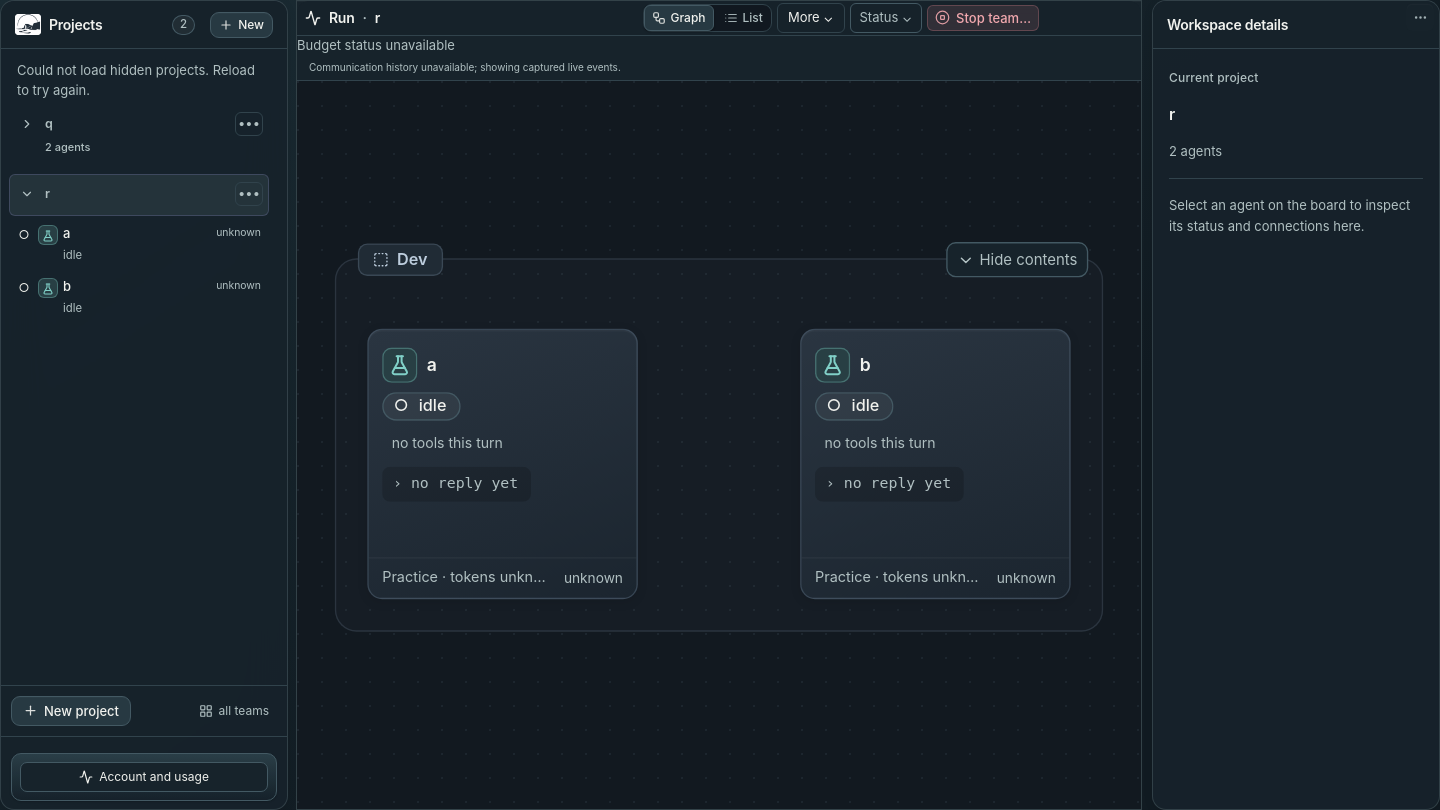
Test case: views and keys › ? opens the full keymap with a filter
The width and height of the screenshot is (1440, 810).
Type keys "?"
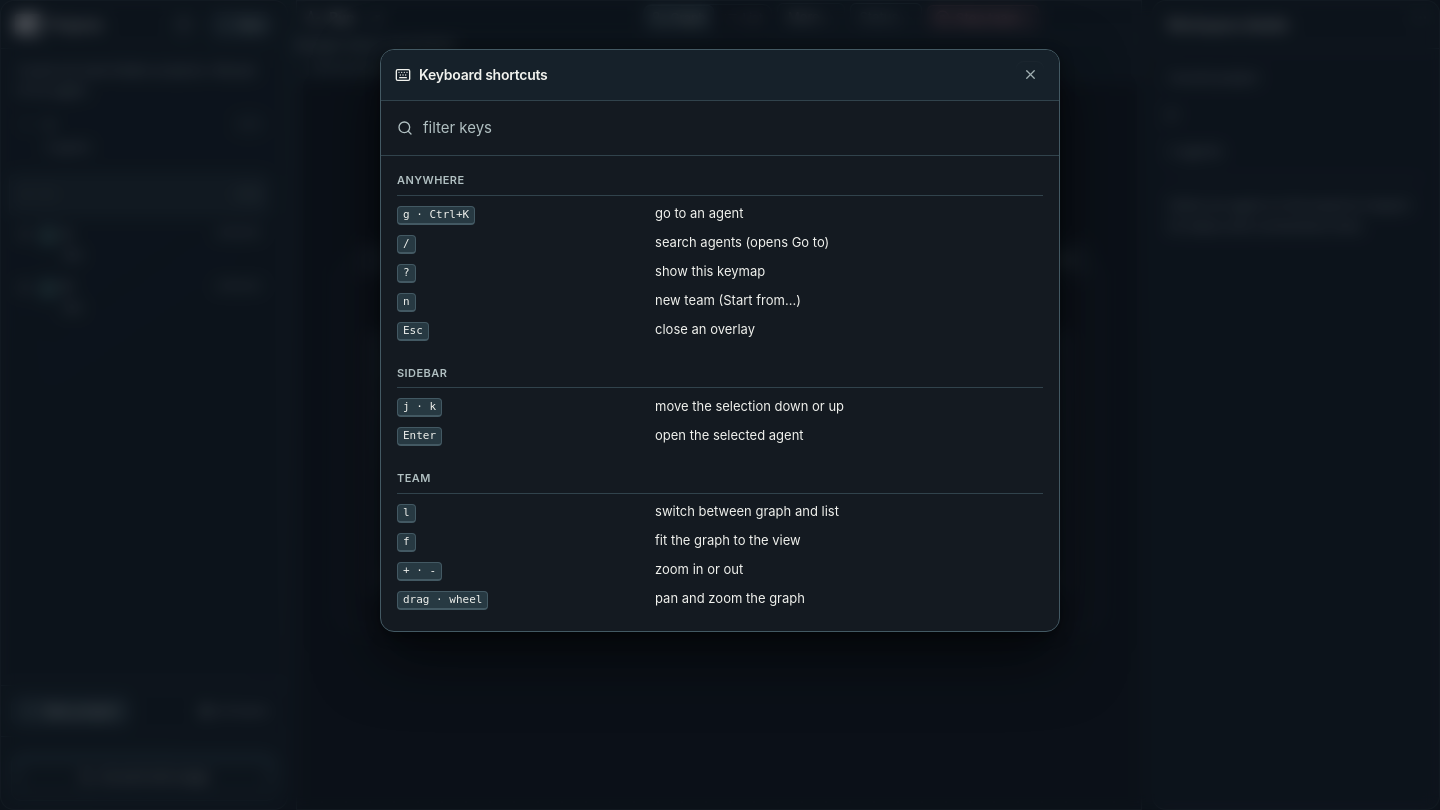
Expected: the dialog named "Keys" does not show "idle · done", [380, 49, 1060, 632]
Type "zoom" into the field labelled "filter keys". click: (733, 128)
box: [423, 113, 1043, 143]
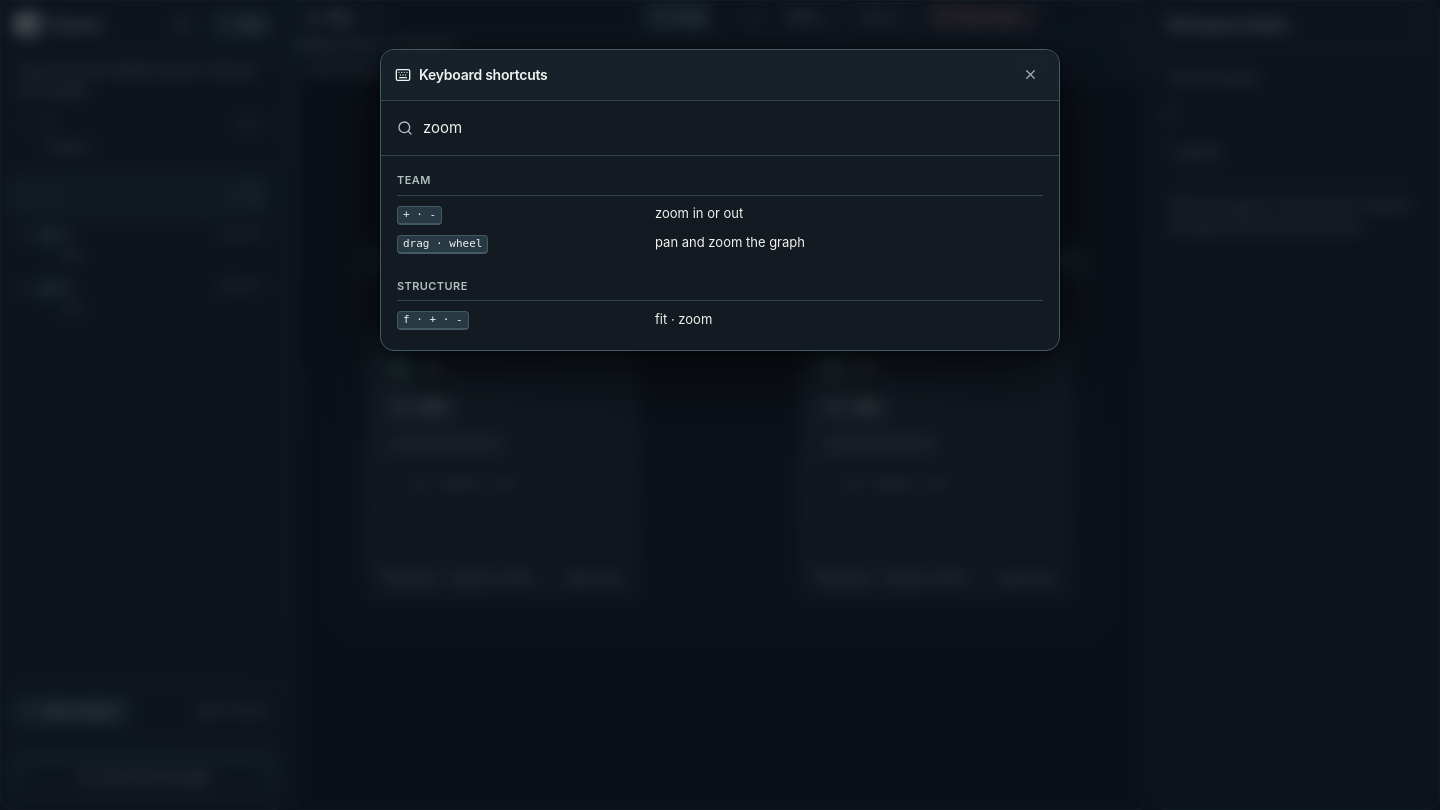
Expected: the dialog named "Keys" does not show "interrupt the current turn", [380, 49, 1060, 351]
Now the dialog named "Keys" shows "zoom in or out", box [655, 205, 743, 221]
Press Escape
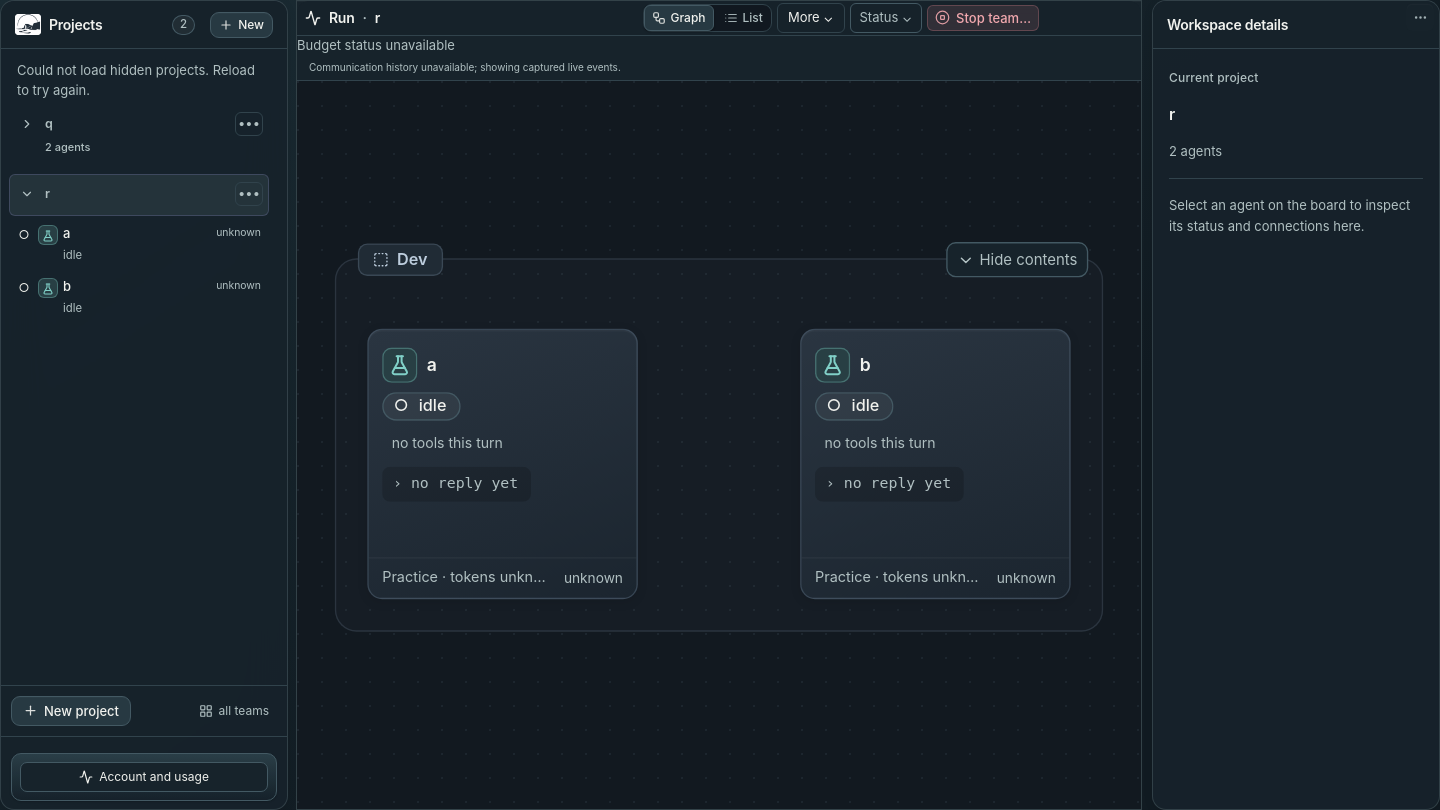
Now the dialog is gone
